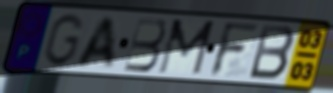A: (74, 16, 117, 70)
B: (246, 23, 297, 83), (121, 16, 168, 74)
F: (207, 20, 263, 79)
G: (40, 12, 86, 68)
M: (155, 17, 217, 77)
